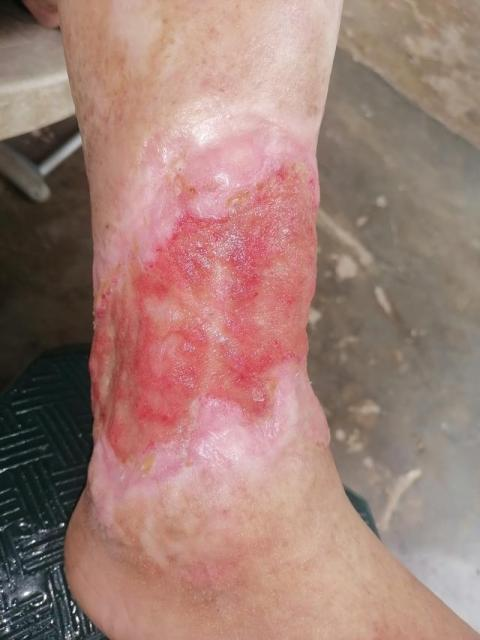wound: (88, 164, 320, 470)
